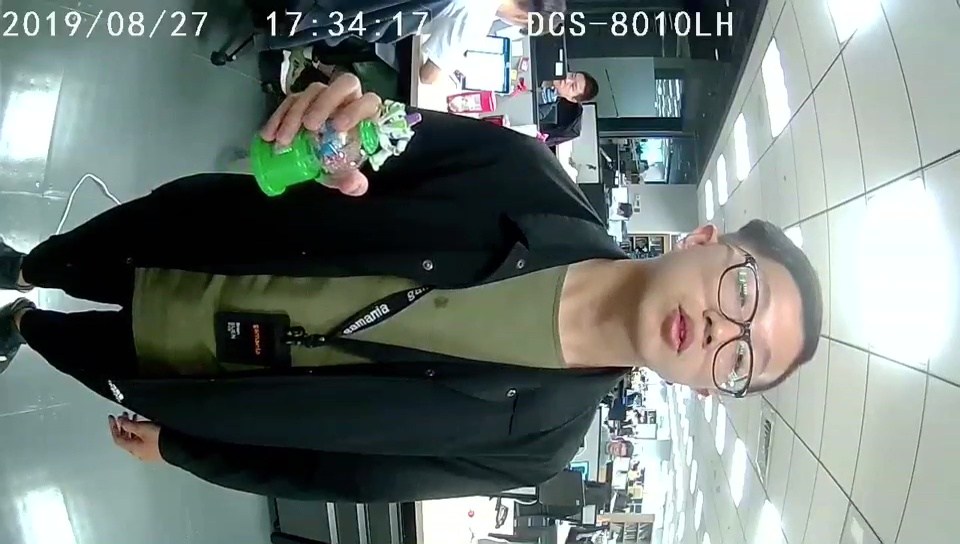buzz: (251, 92, 423, 203)
